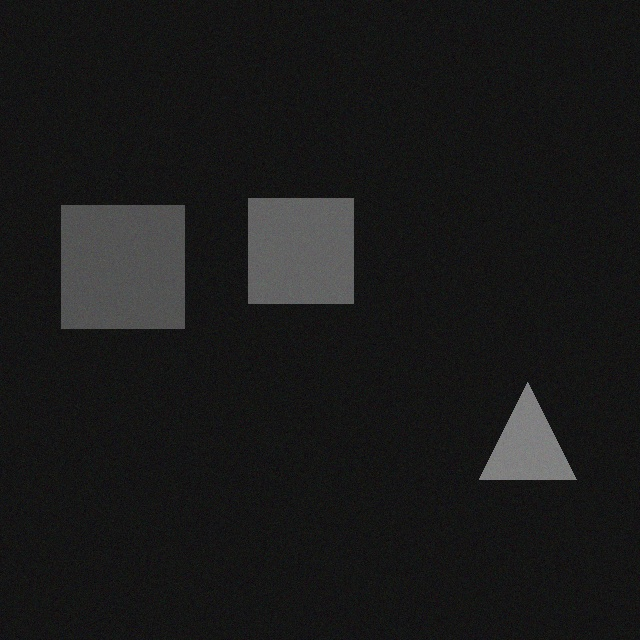square: (61, 217, 184, 340), (248, 210, 353, 315)
triangle: (479, 394, 576, 491)
